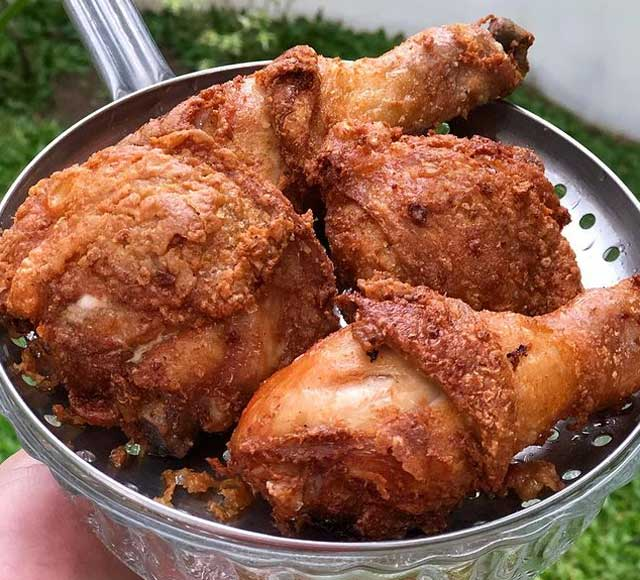Ayam: (219, 258, 634, 560), (137, 10, 539, 194), (38, 146, 285, 429), (314, 123, 573, 310)
